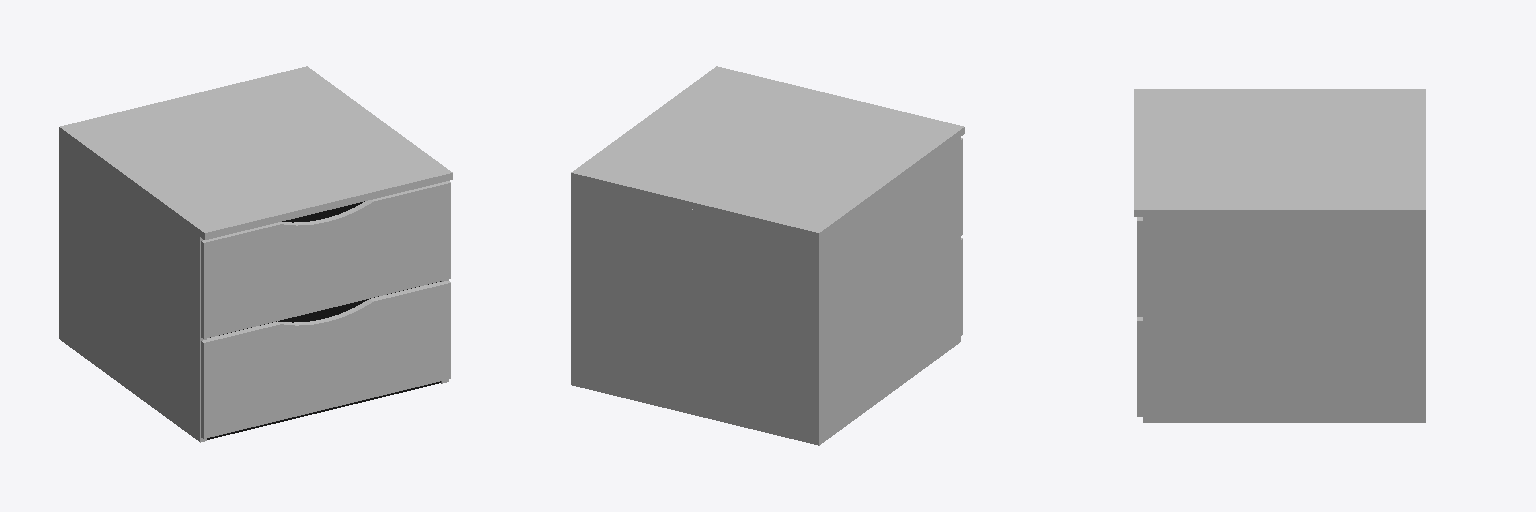
Rendered from Либерти.obj.
The picture shows the model from 3 angles: view 1: azimuth 30°, elevation 25°; view 2: azimuth 150°, elevation 25°; view 3: azimuth 270°, elevation 25°; orthographic projection.
Visible parts, largest first — view 1: Cube.006_Cube.008, Cube.005_Cube.010, Cube.007_Cube.009; view 2: Cube.006_Cube.008; view 3: Cube.006_Cube.008, Cube.005_Cube.010.
Part boxes in pixels (bbox=[...]): Cube.006_Cube.008: bbox=[59, 66, 452, 442]; Cube.005_Cube.010: bbox=[201, 181, 450, 438]; Cube.007_Cube.009: bbox=[207, 201, 440, 439]; Cube.006_Cube.008: bbox=[571, 66, 964, 445]; Cube.006_Cube.008: bbox=[1134, 89, 1425, 422]; Cube.005_Cube.010: bbox=[1137, 217, 1142, 416].
Bounding box in the file's own units: 0.8879 × 0.7265 × 0.9022.